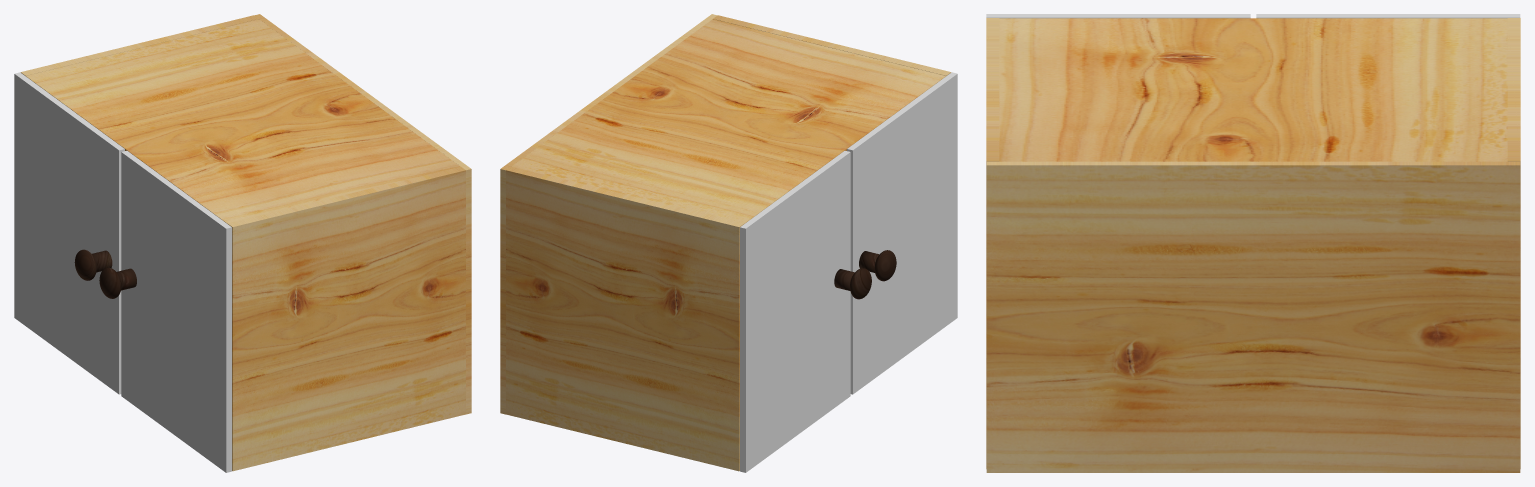
Rendered from medicineBox.fbx.
3 renders of one model, left to right at view 1: azimuth 30°, elevation 25°; view 2: azimuth 150°, elevation 25°; view 3: azimuth 270°, elevation 25°, orthographic. The views are drawn at different scales.
Visible parts, largest first — view 1: 平面, 平面.001, 円; view 2: 平面, 平面.001, 円; view 3: 平面, 平面.001.
Boxes of the visible parts, x1,y1,x2,y2 form: 平面: (20, 14, 471, 471); 平面.001: (14, 72, 231, 472); 円: (74, 249, 136, 298); 平面: (500, 14, 951, 471); 平面.001: (740, 72, 957, 472); 円: (834, 250, 896, 299); 平面: (986, 18, 1520, 472); 平面.001: (986, 14, 1520, 18).
Bounding box in the file's own units: 236 × 200 × 315.
